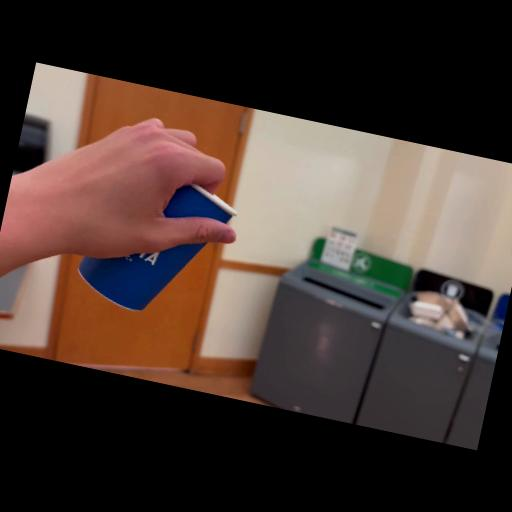lp_paper_cup: (68, 160, 240, 328)
